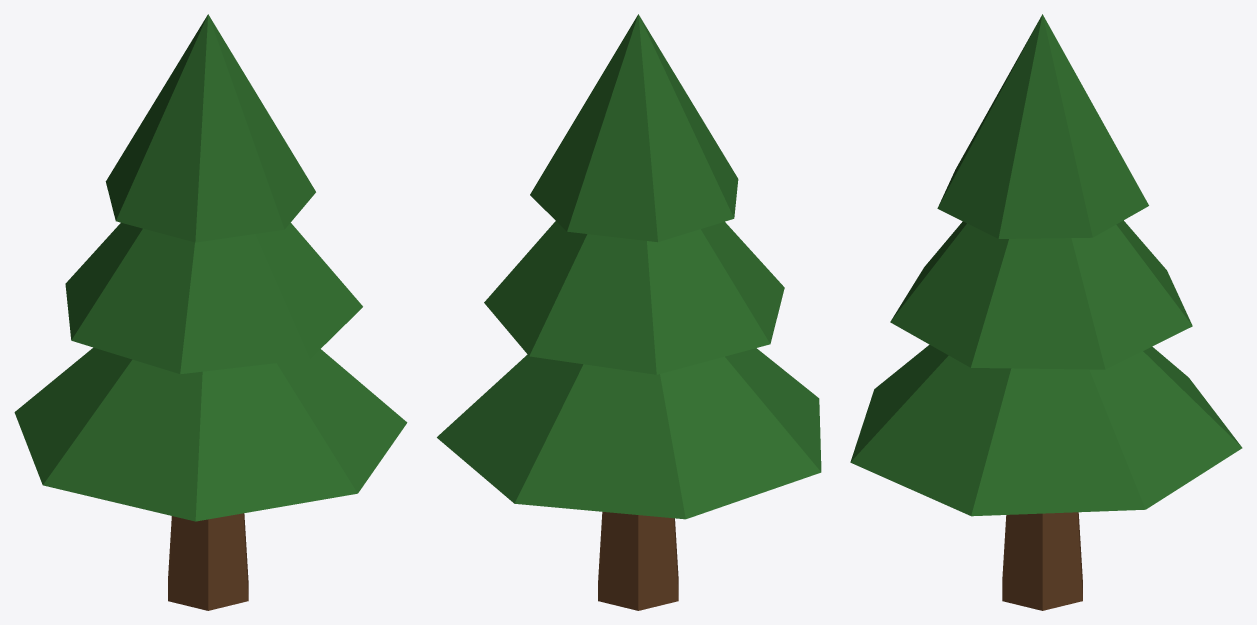
The model's file is tree_yew.glb.
3 views of the same model, side by side, from view 1: azimuth 30°, elevation 25°; view 2: azimuth 150°, elevation 25°; view 3: azimuth 270°, elevation 25° (orthographic).
Visible parts, largest first — view 1: tree_yew; view 2: tree_yew; view 3: tree_yew.
Boxes of the visible parts, <box> form: tree_yew: <box>14,14,407,610</box>; tree_yew: <box>437,14,821,610</box>; tree_yew: <box>850,14,1242,610</box>.
Size of the model in its own units: 2.51 by 4.1 by 2.53.
